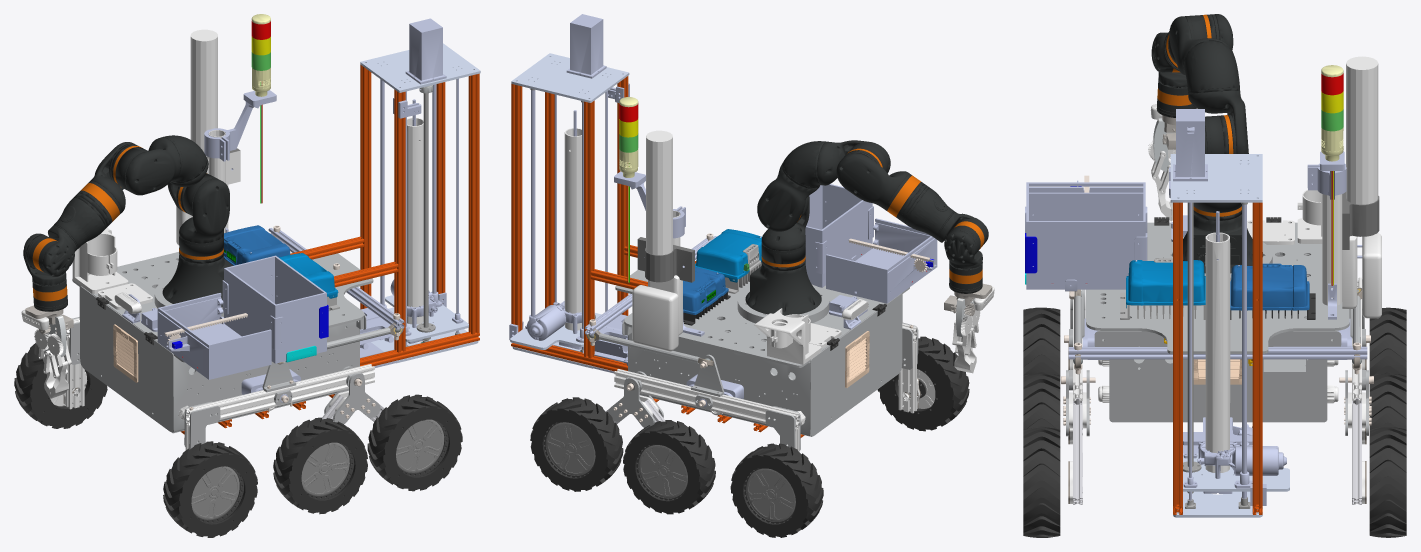
Rendered from leap-one.glb.
3 views of the same model, side by side, from view 1: azimuth 30°, elevation 25°; view 2: azimuth 150°, elevation 25°; view 3: azimuth 270°, elevation 25° (orthographic). The views are drawn at different scales.
Visible parts, largest first — view 1: tire.Vighnesh(Default)Display State 1 (×3), 425+60mm(Default)Display State 1 (×4), Front Cover(Default)Display State 1_343431, 75x90x100mm with servo(Default)Display State 1, side panel right(Default)Display State 1_343431, elbow IGUS(Default)Display State 1 (134), Ubiqiti antenna and airmax ac(Default)Display State 1, shoulder IGUS(Default)Display State 1 (109), 240x145 sides(Default)Display State 1 (×2), mainbase(Default)Display State 1_343431, tire.Vighnesh right(Default)Display State 1, auger cover(Default)Display State 1_ffffff (+33 smaller); view 2: tire.Vighnesh right(Default)Display State 1 (×3), 425+60mm(Default)Display State 1 (×4), Ubiqiti antenna and airmax ac(Default)Display State 1, side panel left(Default)Display State 1_343431, Front Cover(Default)Display State 1_343431, elbow IGUS(Default)Display State 1 (134), 75x90x100mm with servo(Default)Display State 1, mainbase(Default)Display State 1_343431, tire.Vighnesh(Default)Display State 1, auger cover(Default)Display State 1_ffffff, wrist 1(Default)Display State 1 (96), Base IGUS(Default)Display State 1 (24) (+32 smaller); view 3: Back Cover(Default)Display State 1, 240x145 sides(Default)Display State 1 (×2), Ubiqiti antenna and airmax ac(Default)Display State 1, mainbase(Default)Display State 1_343431, tire.Vighnesh(Default)Display State 1 (×3), tire.Vighnesh right(Default)Display State 1 (×3), 425+60mm(Default)Display State 1 (×2), elbow IGUS(Default)Display State 1 (134), auger cover(Default)Display State 1_ffffff, new top plate(Default)Display State 1, DimensionDrawing-Orion-Tr-(380-400W)-3D.STEP(Default)Display, Orion-Tr-220-240-280W-Isolated-(stp).STEP(Default)Display St (+25 smaller).
Boxes of the visible parts, x1,y1,x2,y2 form: tire.Vighnesh(Default)Display State 1 (×3): (163, 394, 462, 537); 425+60mm(Default)Display State 1 (×4): (360, 64, 479, 352); Front Cover(Default)Display State 1_343431: (79, 286, 174, 431); 75x90x100mm with servo(Default)Display State 1: (157, 293, 271, 379); side panel right(Default)Display State 1_343431: (172, 321, 359, 432); elbow IGUS(Default)Display State 1 (134): (110, 135, 208, 211); Ubiqiti antenna and airmax ac(Default)Display State 1: (176, 29, 240, 245); shoulder IGUS(Default)Display State 1 (109): (178, 173, 229, 263); 240x145 sides(Default)Display State 1 (×2): (224, 255, 326, 361); mainbase(Default)Display State 1_343431: (72, 252, 373, 362); tire.Vighnesh right(Default)Display State 1: (14, 343, 107, 428); auger cover(Default)Display State 1_ffffff: (407, 117, 423, 324); tire.Vighnesh right(Default)Display State 1 (×3): (530, 397, 823, 537); 425+60mm(Default)Display State 1 (×4): (511, 76, 628, 358); Ubiqiti antenna and airmax ac(Default)Display State 1: (632, 130, 694, 351); side panel left(Default)Display State 1_343431: (629, 328, 811, 436); Front Cover(Default)Display State 1_343431: (810, 293, 902, 436); elbow IGUS(Default)Display State 1 (134): (757, 140, 890, 231); 75x90x100mm with servo(Default)Display State 1: (826, 218, 937, 303); mainbase(Default)Display State 1_343431: (615, 269, 909, 367); tire.Vighnesh(Default)Display State 1: (877, 336, 969, 431); auger cover(Default)Display State 1_ffffff: (564, 128, 581, 330); wrist 1(Default)Display State 1 (96): (836, 151, 927, 221); Base IGUS(Default)Display State 1 (24): (745, 262, 821, 315); Back Cover(Default)Display State 1: (1094, 331, 1341, 422); 240x145 sides(Default)Display State 1 (×2): (1026, 192, 1145, 287); Ubiqiti antenna and airmax ac(Default)Display State 1: (1342, 56, 1381, 318); mainbase(Default)Display State 1_343431: (1086, 223, 1349, 353); tire.Vighnesh(Default)Display State 1 (×3): (1023, 307, 1060, 537); tire.Vighnesh right(Default)Display State 1 (×3): (1369, 307, 1406, 537); 425+60mm(Default)Display State 1 (×2): (1173, 202, 1262, 505); elbow IGUS(Default)Display State 1 (134): (1169, 14, 1248, 153); auger cover(Default)Display State 1_ffffff: (1205, 232, 1230, 472); new top plate(Default)Display State 1: (1170, 154, 1262, 202); DimensionDrawing-Orion-Tr-(380-400W)-3D.STEP(Default)Display: (1120, 258, 1205, 319); Orion-Tr-220-240-280W-Isolated-(stp).STEP(Default)Display St: (1230, 263, 1315, 319).
Bounding box in the file's own units: 1.22 × 1.02 × 0.7702.
